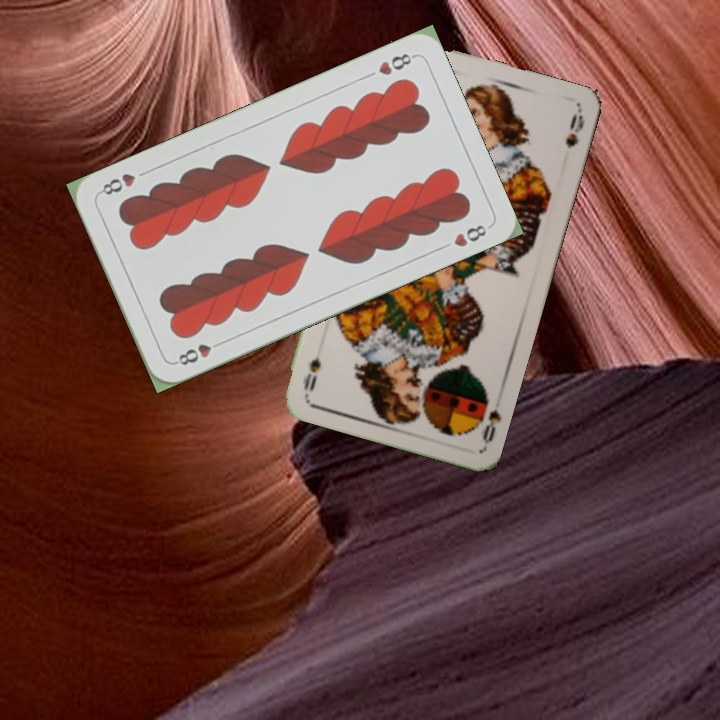H8: (170, 336, 227, 368), (374, 49, 418, 78)
SO: (478, 404, 504, 446)
